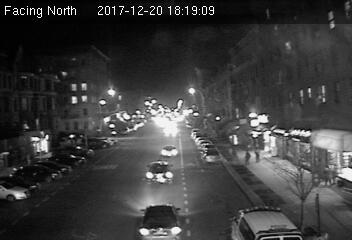car: (138, 202, 182, 238), (145, 161, 173, 185), (159, 144, 179, 158), (203, 149, 221, 164)
police: (227, 204, 301, 240)
